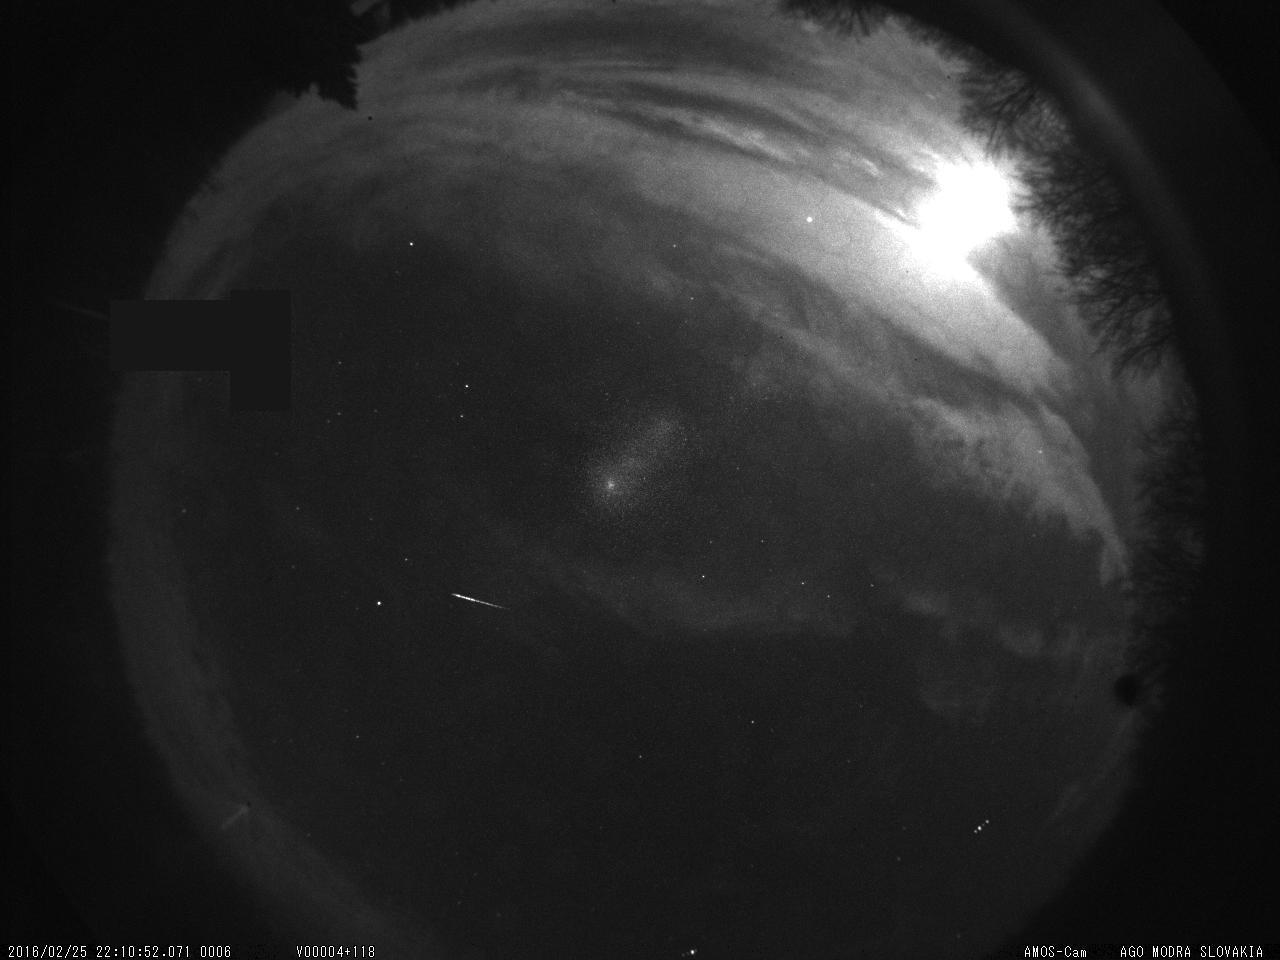meteor: (415, 566, 589, 648)
